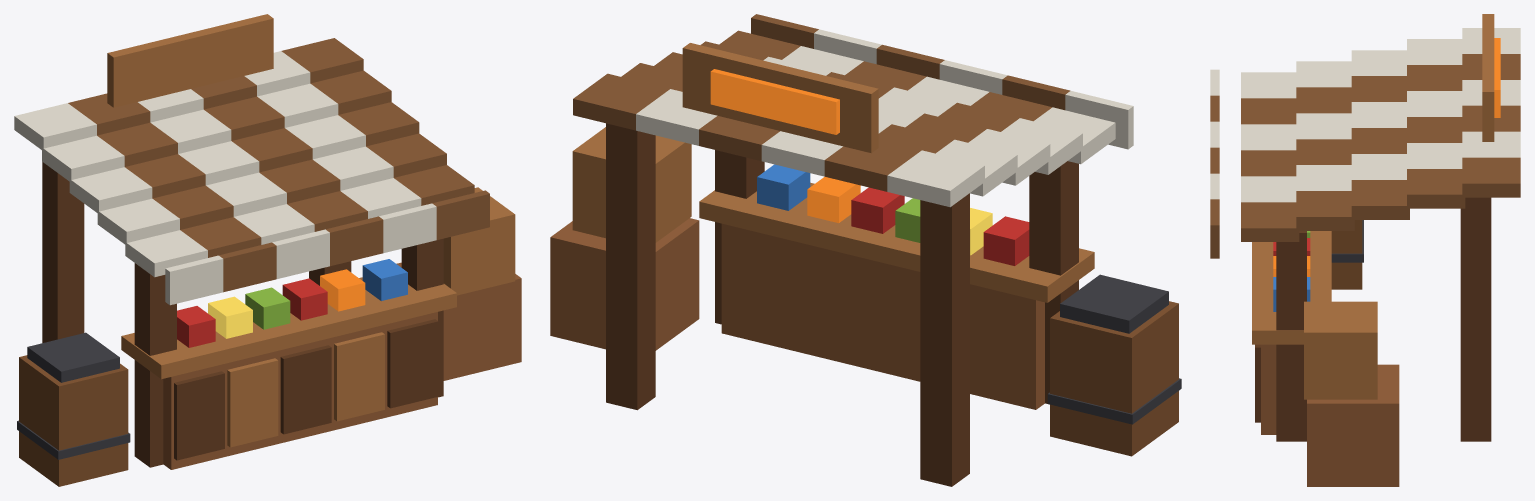
File: MarketStall.glb
3 views of the same model, side by side, from view 1: azimuth 30°, elevation 25°; view 2: azimuth 150°, elevation 25°; view 3: azimuth 270°, elevation 25° (orthographic). The views are drawn at different scales.
Parts seen in each view (by area): view 1: MarketStall; view 2: MarketStall; view 3: MarketStall.
Part boxes in pixels (x1=…): MarketStall: x1=14, y1=14, x2=521, y2=486; MarketStall: x1=550, y1=14, x2=1181, y2=486; MarketStall: x1=1210, y1=14, x2=1520, y2=486.
Size of the model in its own units: 17.85 by 11.4 by 10.1.
2 materials, 2 textured.
